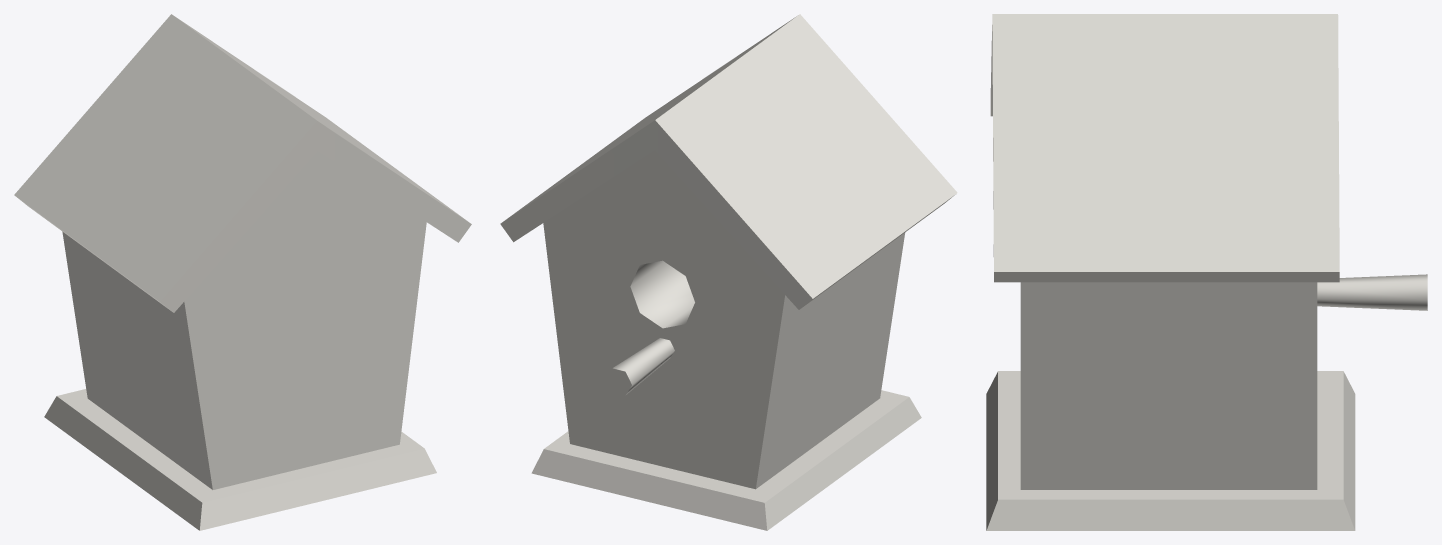
Rendered from house.gltf.
The picture shows the model from 3 angles, left to right: view 1: azimuth 30°, elevation 25°; view 2: azimuth 150°, elevation 25°; view 3: azimuth 270°, elevation 25°; orthographic projection. The views are drawn at different scales.
Parts seen in each view (by area): view 1: node_id34, node_id36, node_id38; view 2: node_id34, node_id36, node_id38; view 3: node_id36, node_id34, node_id38.
Part boxes in pixels (left/top/right/bottom): node_id34: left=62, top=151, right=426, bottom=489; node_id36: left=14, top=14, right=471, bottom=312; node_id38: left=44, top=389, right=436, bottom=530; node_id34: left=543, top=150, right=905, bottom=489; node_id36: left=500, top=14, right=957, bottom=309; node_id38: left=531, top=390, right=921, bottom=530; node_id36: left=990, top=14, right=1339, bottom=282; node_id34: left=1020, top=274, right=1427, bottom=489; node_id38: left=986, top=371, right=1355, bottom=530.
Bounding box in the file's own units: 0.443 × 0.512 × 0.4557.
3 materials, 3 textured.
